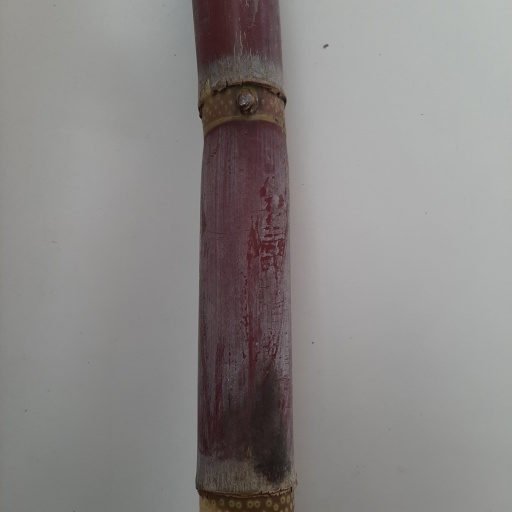Bud: (234, 85, 261, 119)
